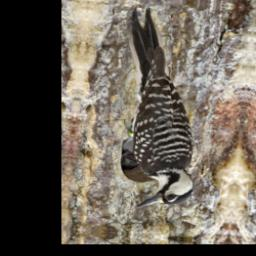Woodpecker: (106, 4, 215, 213)
